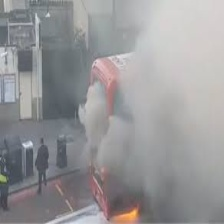smoke: (83, 3, 224, 218)
